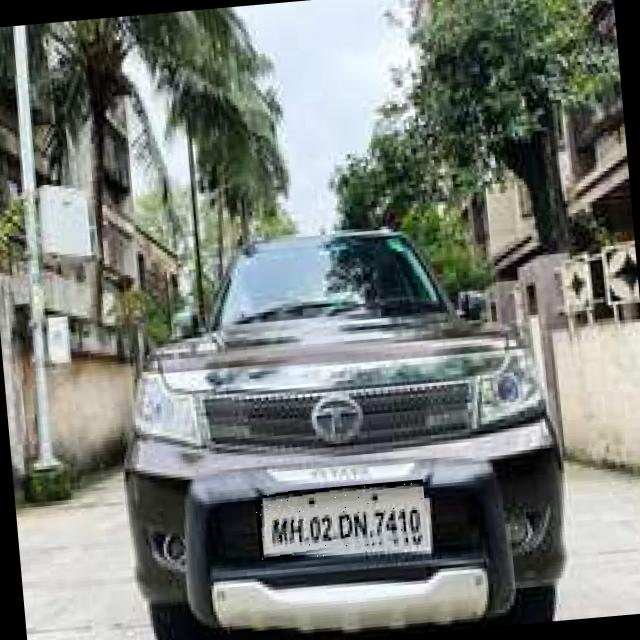Plate: (255, 480, 429, 562)
